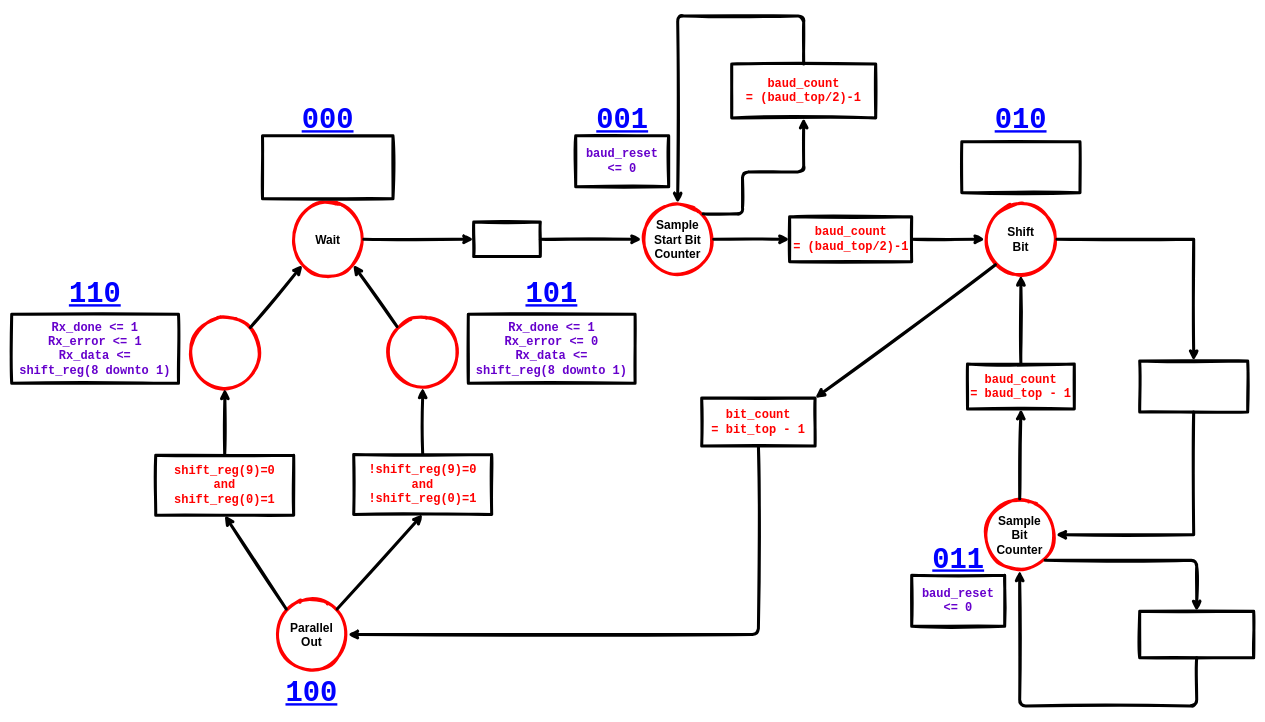
Some shapes in this 1265 by 722 pixel diagram are drawn without their labels. Here are the shapes that lost their labels. From the top down, the centre of each, then its label:
At (327,167): "baud_reset <= 1 bit_reset <= 1 shift_en <= 0".
At (1020,167): "bit_reset <= 0 shift_en <= 1".
At (507,239): "Rx = 0".
At (224,352): "Rx Fail".
At (422,351): "Rx Success".
At (1193,386): "bit_count < bit_top - 1".
At (1196,634): "baud_count < baud_top - 1".
